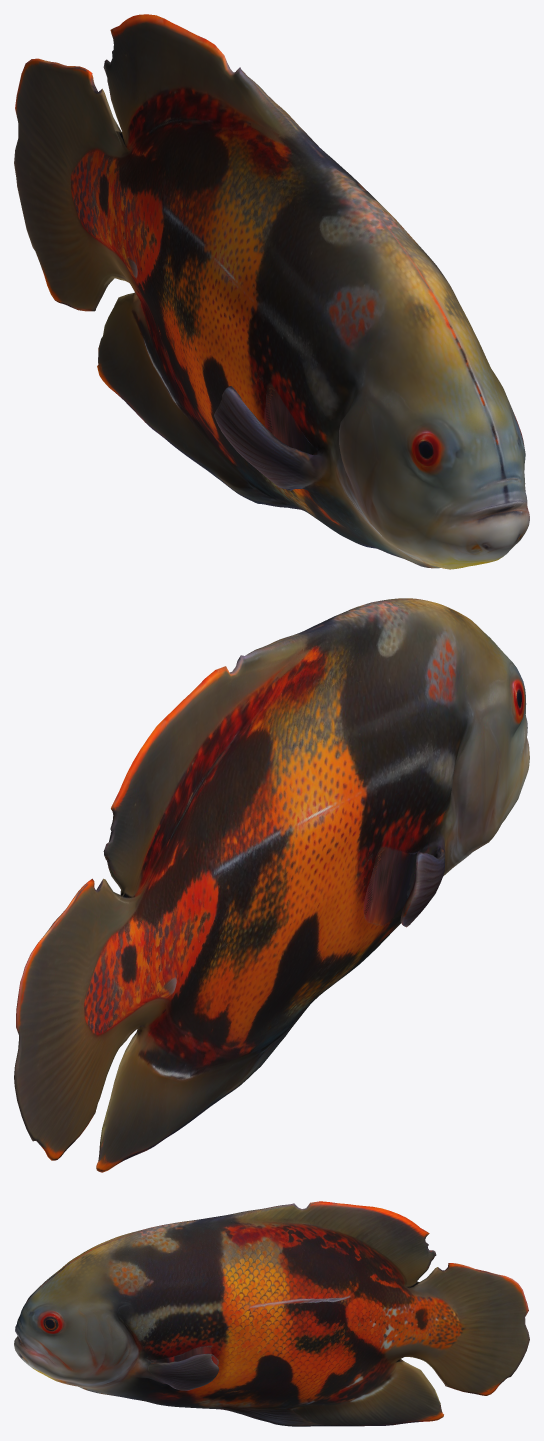
Rendered from oscar_0604060753_texture.glb.
3 views of the same model, one above another, from view 1: azimuth 30°, elevation 25°; view 2: azimuth 150°, elevation 25°; view 3: azimuth 270°, elevation 25° (orthographic). The views are drawn at different scales.
Bounding box in the file's own units: 0.4612 × 0.9614 × 1.99.
1 material, 1 textured.
